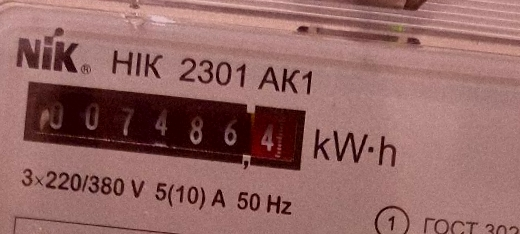0: (43, 96, 67, 132), (81, 98, 102, 133)
4: (149, 102, 171, 139), (256, 119, 277, 154)
6: (220, 115, 242, 149)
7: (112, 103, 139, 138)
8: (185, 112, 206, 149)
screen: (11, 68, 316, 183)
